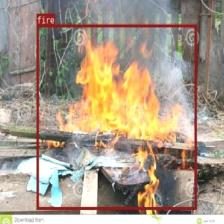fire: (36, 24, 196, 209)
